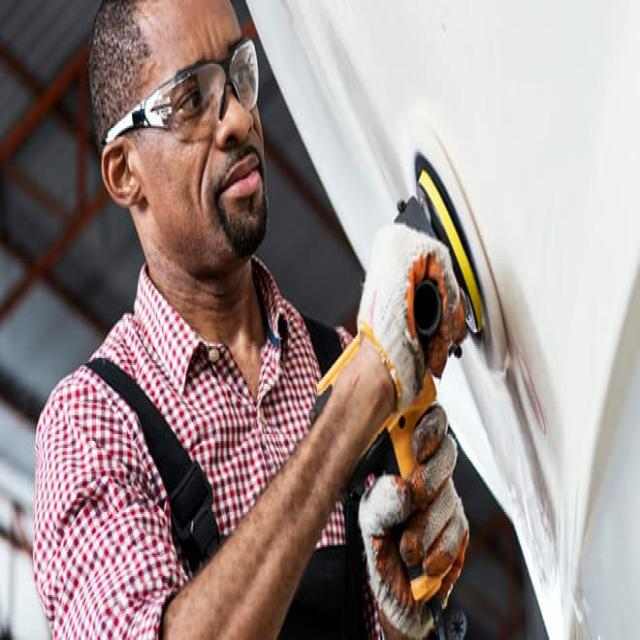Safety Glasses: (101, 30, 262, 148)
